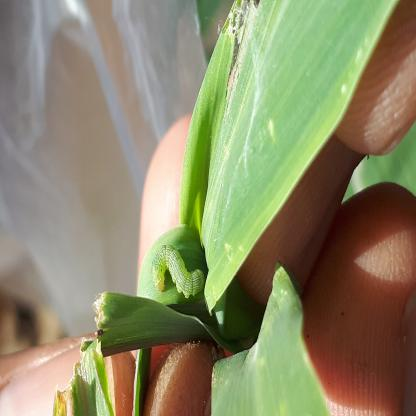armyworm: (68, 267, 94, 363)
